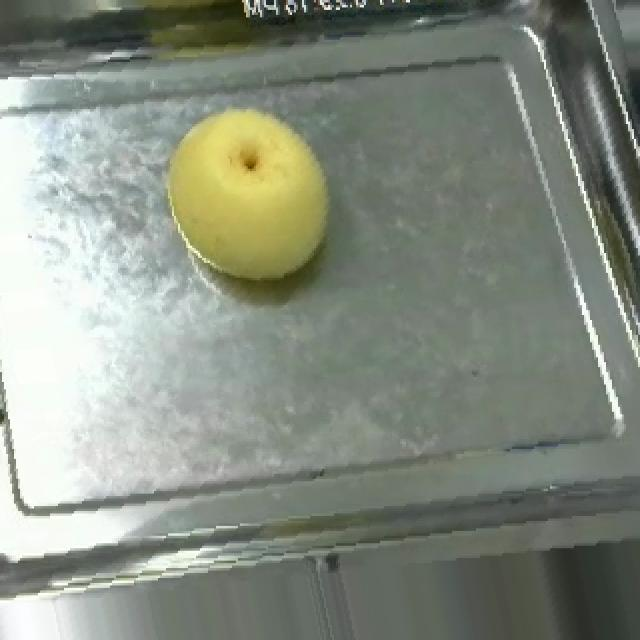Fruit: (152, 87, 348, 295)
